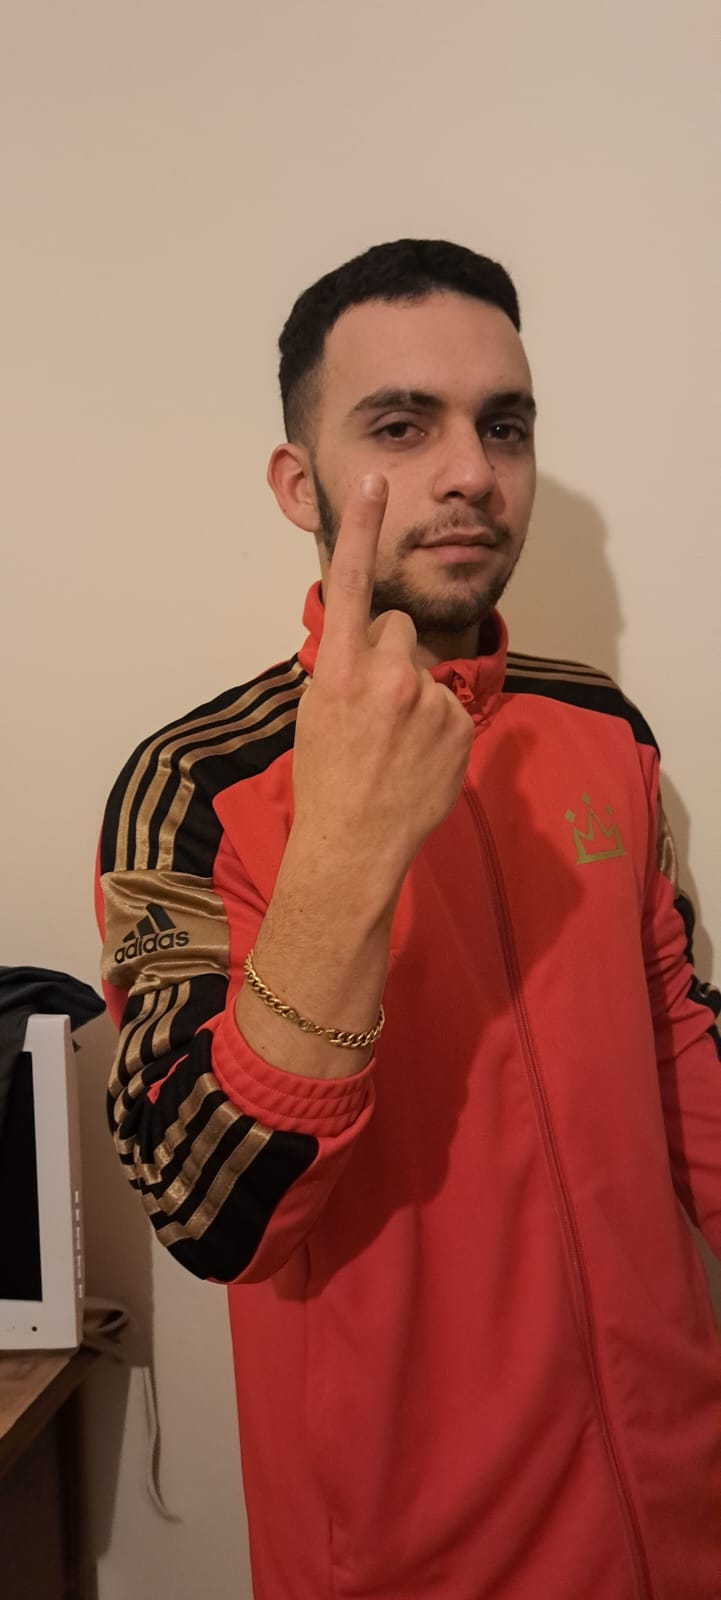joke: (277, 470, 483, 861)
